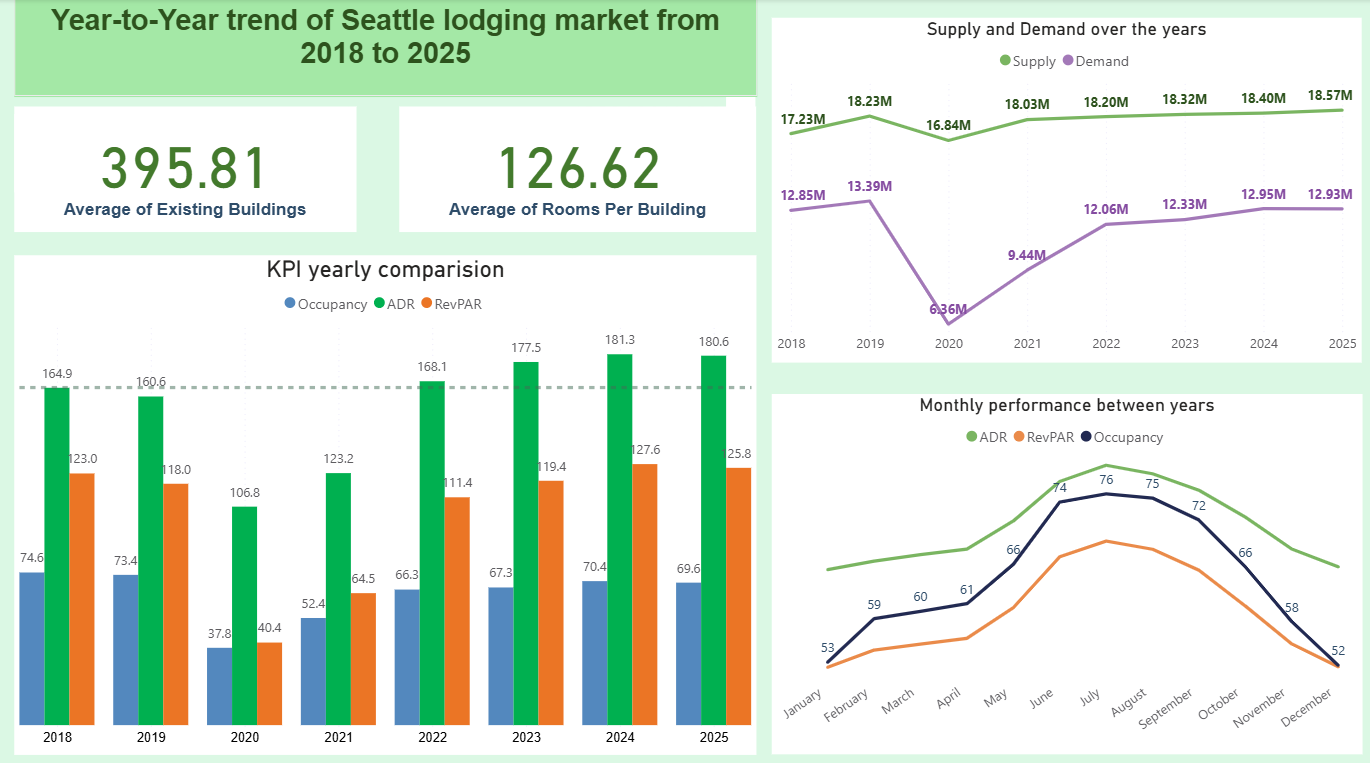

The page's visual inventory and layout, read from the dashboard file:
{"tool":"powerbi","page":{"name":"Years trend","canvas":[1280,720],"ordinal":1},"visuals":[{"type":"clusteredColumnChart","title":"KPI yearly comparision","fields":{"Category":["AnalyticExport.Period.Variation.Date Hierarchy.Year"],"Y":["AnalyticExport.avgOccupancy","AnalyticExport.avgADR","AnalyticExport.avgRevPAR"]},"box":[14.8,238.3,690.7,465],"z":0},{"type":"slicer","title":"Year","fields":{"Values":["AnalyticExport.Year"]},"box":[14.8,107.6,135,72.8],"z":1000},{"type":"textbox","box":[14.8,0,690.9,91],"z":2000},{"type":"lineChart","title":"Monthly performance  between years","fields":{"Category":["AnalyticExport.Month"],"Y":["AnalyticExport.avgADR","AnalyticExport.avgRevPAR"],"Y2":["AnalyticExport.avgOccupancy"]},"box":[720.2,368,549.4,335.3],"z":3000},{"type":"card","fields":{"Values":["Avg(AnalyticExport.Avg Rooms Per Building)"]},"box":[373.3,100.2,332.2,117],"z":4000},{"type":"card","fields":{"Values":["Avg(AnalyticExport.Existing Buildings)"]},"box":[14.8,100.2,318.5,117],"z":5000},{"type":"areaChart","title":"Supply and Demand over the years","fields":{"Y":["Sum(AnalyticExport.Supply)","Sum(AnalyticExport.Demand)"],"Category":["AnalyticExport.Year"]},"box":[719.8,17.4,548.8,320.9],"z":6000}]}

Visuals, with their boxes in screenshot pixels (x1, y1, x2, y2), scaled from the page's 1280x720 canvas onto the 1370x763 screenshot:
"KPI yearly comparision" clusteredColumnChart: 16/253/755/745
"Year" slicer: 16/114/160/191
textbox: 16/0/755/96
"Monthly performance  between years" lineChart: 771/390/1359/745
card - Avg(AnalyticExport.Avg Rooms Per Building): 400/106/755/230
card - Avg(AnalyticExport.Existing Buildings): 16/106/357/230
"Supply and Demand over the years" areaChart: 770/18/1358/359
